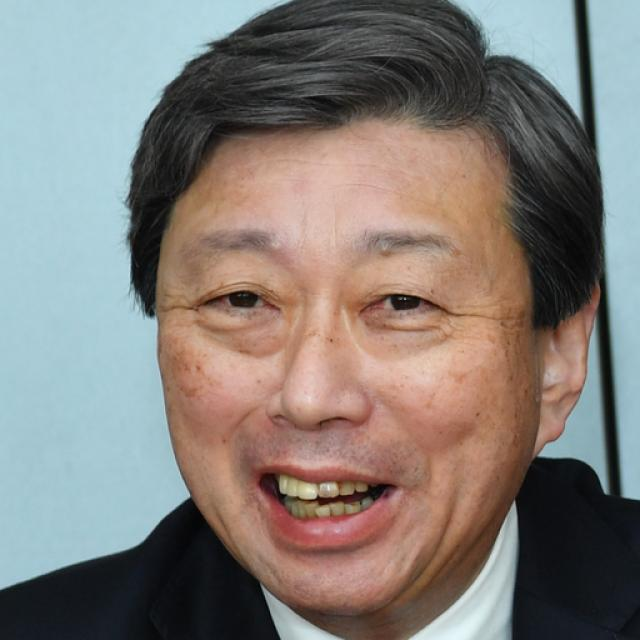Pigmentation: (480, 298, 545, 393), (161, 339, 223, 413)
